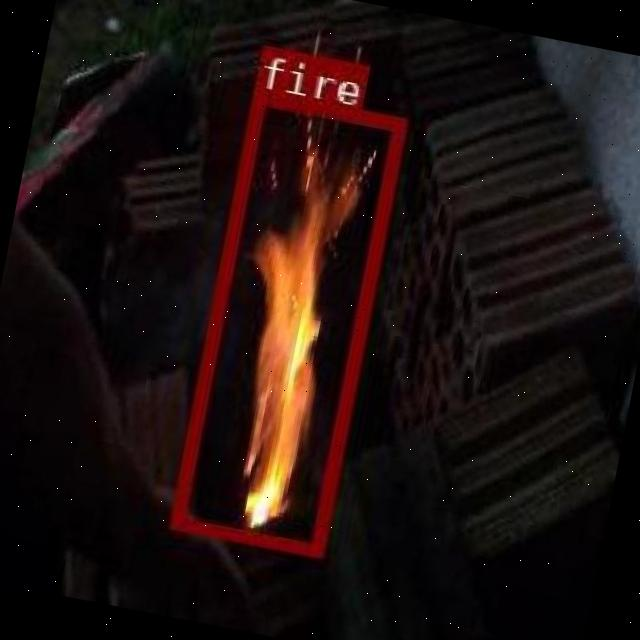fire: (168, 86, 407, 556)
